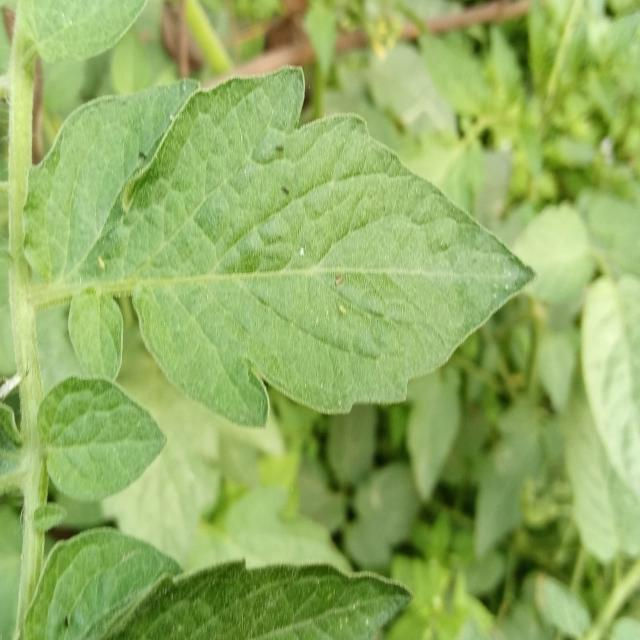Healthy: (0, 0, 539, 536), (9, 350, 176, 519)
